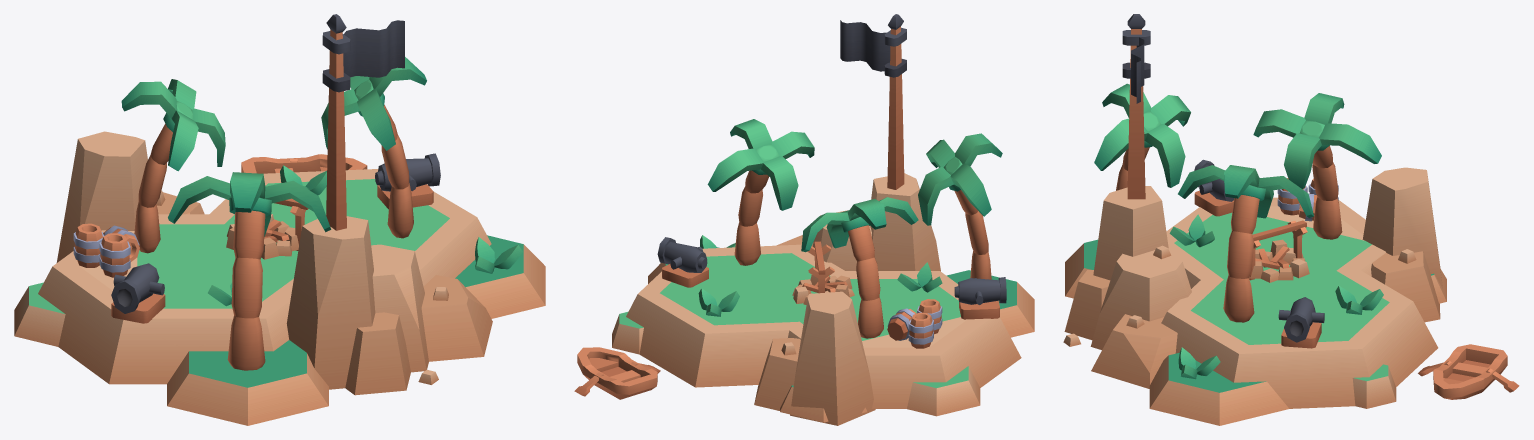
File: Pirate Island.glb
3 views of the same model, side by side, from view 1: azimuth 30°, elevation 25°; view 2: azimuth 150°, elevation 25°; view 3: azimuth 270°, elevation 25° (orthographic). The views are drawn at different scales.
Parts seen in each view (by area): view 1: rock-flat-grass, rock-sand-c, palm-bend.001, rock-sand-a, flag-pirate-high, palm-bend.002, palm-bend, cannon.001, cannon.002, boat-row-small, barrel, barrel.001 (+1 smaller); view 2: rock-flat-grass, rock-sand-a, palm-bend, rock-sand-c, palm-bend.001, palm-bend.002, flag-pirate-high, boat-row-small, cannon.002, cannon.001, barrel.001, campfire-pit (+3 smaller); view 3: rock-flat-grass, rock-sand-c, rock-sand-a, palm-bend.002, palm-bend, palm-bend.001, flag-pirate-high, boat-row-small, cannon.002, campfire-pit, cannon.001, campfire-stand (+3 smaller).
Part boxes in pixels (bbox=[...]): rock-flat-grass: bbox=[14, 165, 545, 425]; rock-sand-c: bbox=[286, 216, 492, 395]; palm-bend.001: bbox=[168, 172, 331, 370]; rock-sand-a: bbox=[56, 131, 204, 262]; flag-pirate-high: bbox=[322, 14, 404, 230]; palm-bend.002: bbox=[121, 79, 225, 253]; palm-bend: bbox=[321, 57, 426, 238]; cannon.001: bbox=[111, 263, 165, 323]; cannon.002: bbox=[375, 153, 440, 209]; boat-row-small: bbox=[241, 154, 367, 173]; barrel: bbox=[99, 233, 130, 277]; barrel.001: bbox=[73, 223, 103, 267]; rock-flat-grass: bbox=[612, 235, 1034, 422]; rock-sand-a: bbox=[754, 291, 875, 425]; palm-bend: bbox=[707, 119, 814, 265]; rock-sand-c: bbox=[776, 173, 940, 271]; palm-bend.001: bbox=[918, 133, 1002, 279]; palm-bend.002: bbox=[801, 197, 918, 338]; flag-pirate-high: bbox=[840, 14, 906, 189]; boat-row-small: bbox=[577, 347, 657, 399]; cannon.002: bbox=[657, 237, 708, 287]; cannon.001: bbox=[954, 277, 1006, 319]; barrel.001: bbox=[908, 312, 933, 348]; campfire-pit: bbox=[792, 275, 854, 304]; rock-flat-grass: bbox=[1065, 197, 1446, 425]; rock-sand-c: bbox=[1063, 186, 1191, 388]; rock-sand-a: bbox=[1362, 167, 1442, 322]; palm-bend.002: bbox=[1253, 93, 1381, 239]; palm-bend: bbox=[1178, 165, 1313, 322]; palm-bend.001: bbox=[1094, 83, 1190, 190]; flag-pirate-high: bbox=[1122, 14, 1150, 199]; boat-row-small: bbox=[1433, 344, 1507, 399]; cannon.002: bbox=[1278, 297, 1324, 348]; campfire-pit: bbox=[1249, 239, 1309, 282]; cannon.001: bbox=[1194, 159, 1234, 216]; campfire-stand: bbox=[1249, 220, 1307, 280].
Bounding box in the file's own units: 1.79 × 1.28 × 1.73.
Materials: 15 (15 with a texture image).
